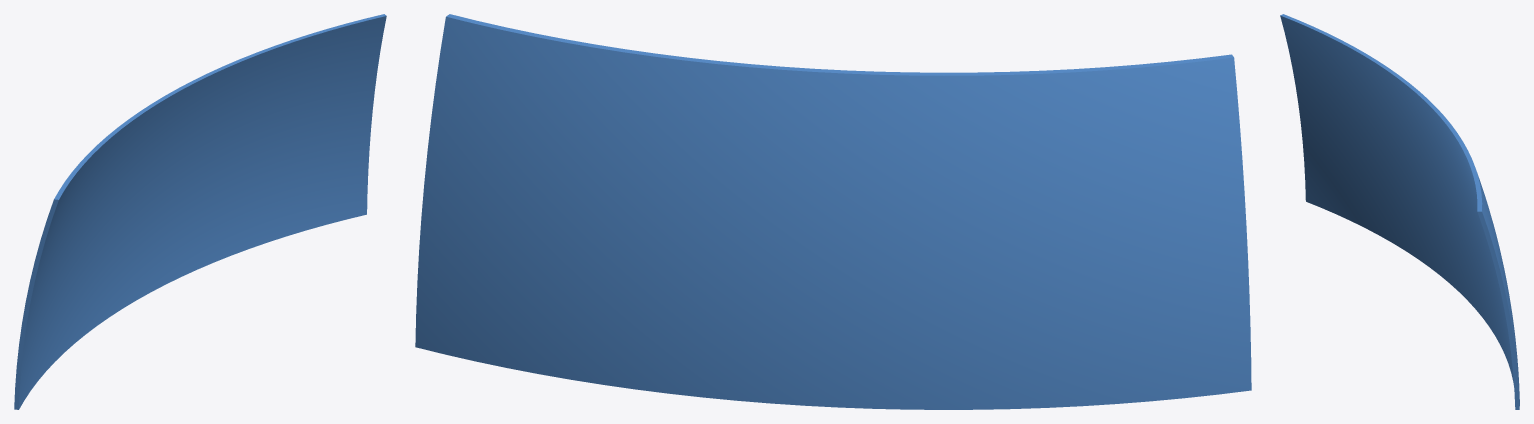
3 views of the same model, side by side, from view 1: azimuth 30°, elevation 25°; view 2: azimuth 150°, elevation 25°; view 3: azimuth 270°, elevation 25° (orthographic). The views are drawn at different scales.
Visible parts, largest first — view 1: Body1; view 2: Body1; view 3: Body1.
Part boxes in pixels (bbox=[...]): Body1: bbox=[14, 14, 386, 409]; Body1: bbox=[415, 14, 1251, 409]; Body1: bbox=[1280, 14, 1519, 409].
Size of the model in its own units: 17.5 by 7.7 by 8.45.
